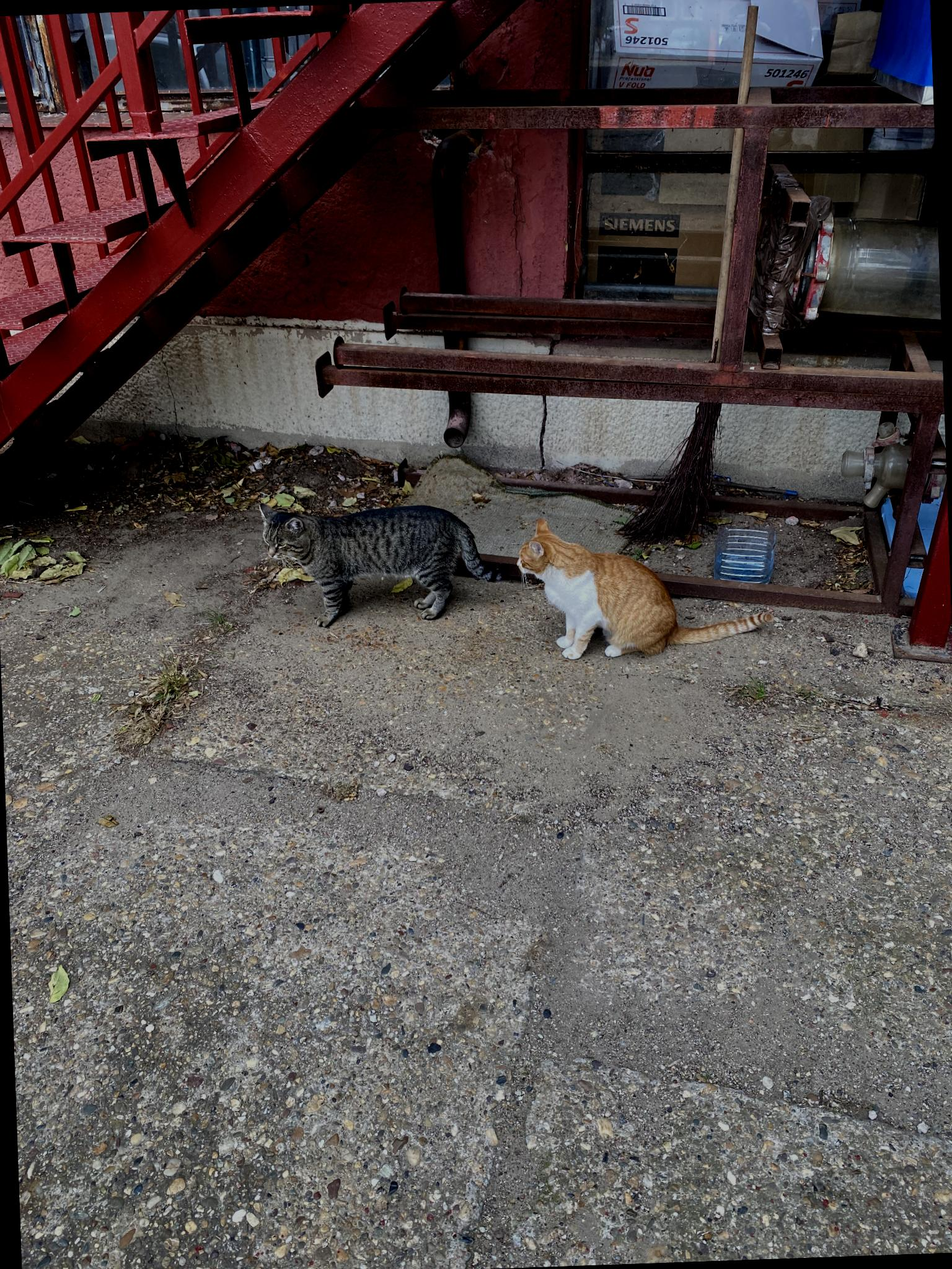macka: (515, 511, 774, 662), (258, 495, 511, 631)
